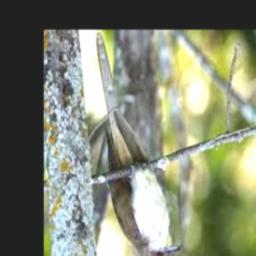Cuckoo: (96, 33, 184, 256)
